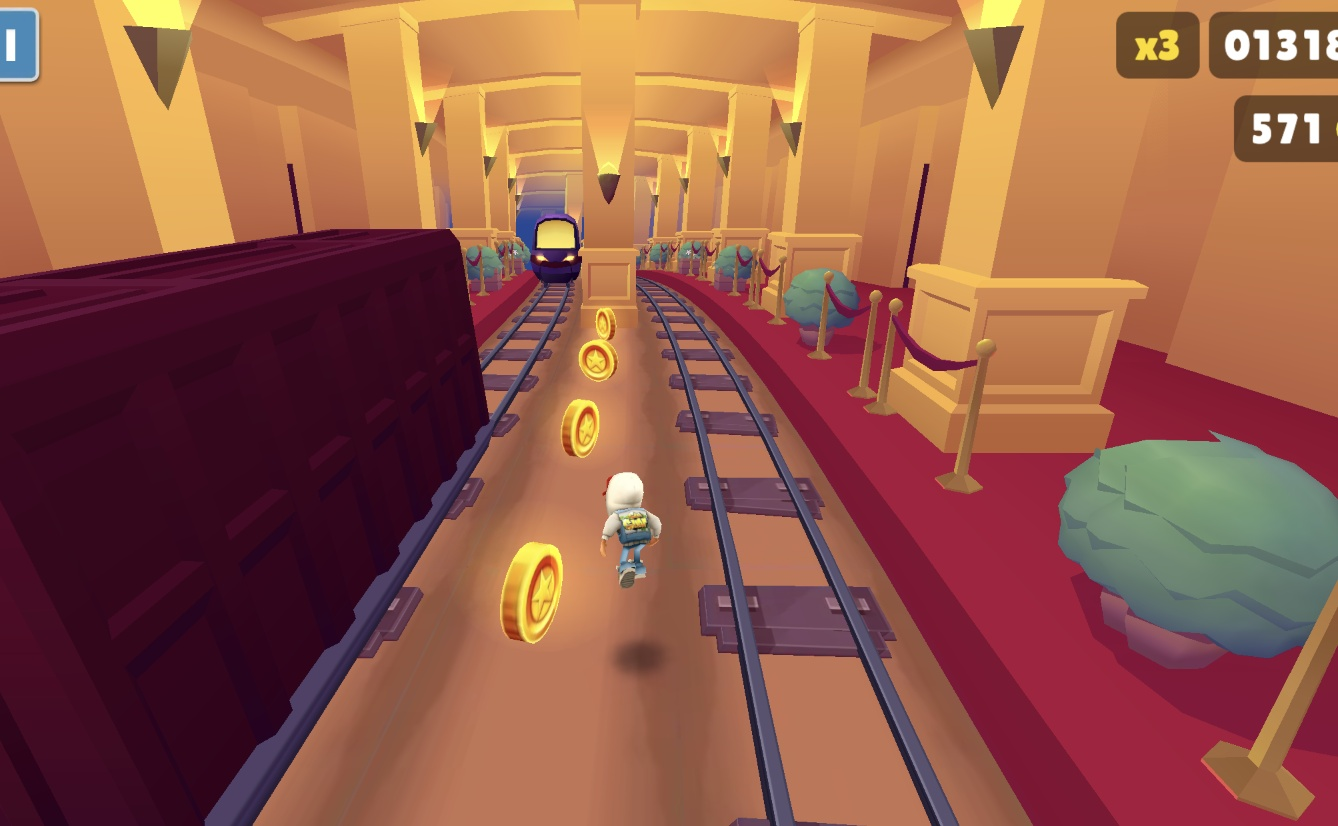pillar: (569, 0, 642, 339)
train: (0, 222, 494, 826), (517, 212, 579, 292)
